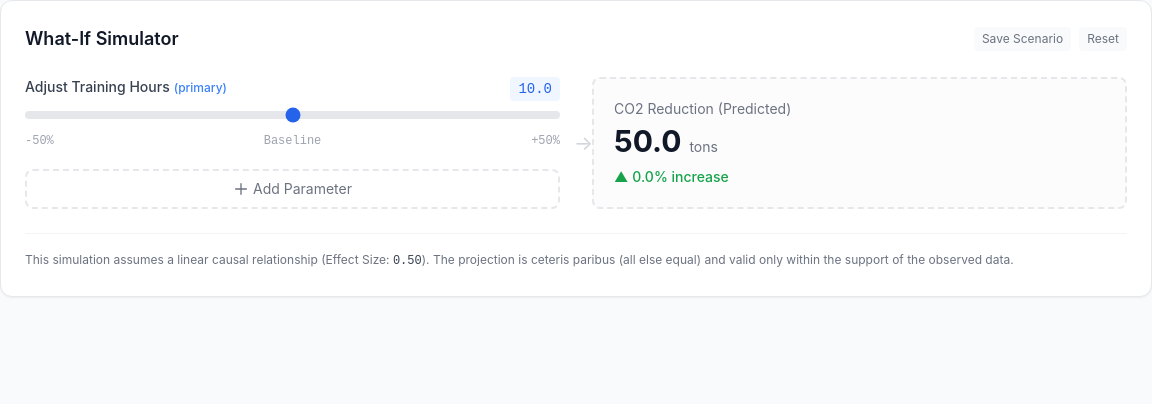
Test case: InterventionSimulator › opens add parameter form when button is clicked
Step 1. Click the button with test id "add-parameter-btn" → (292, 189), box [25,169,560,209]
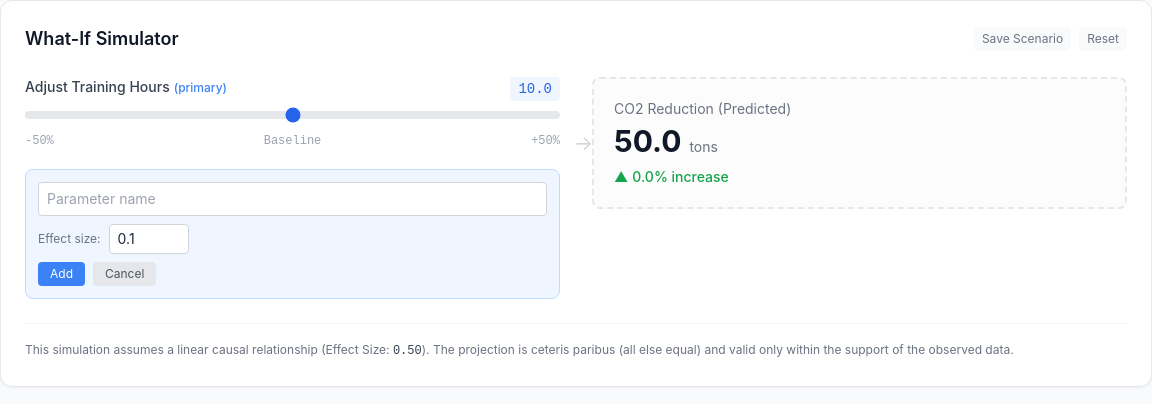
Check: the element with test id "add-parameter-form" is shown, box [25,169,560,299]
Check: the field with test id "new-param-name" is shown, box [38,182,547,216]
